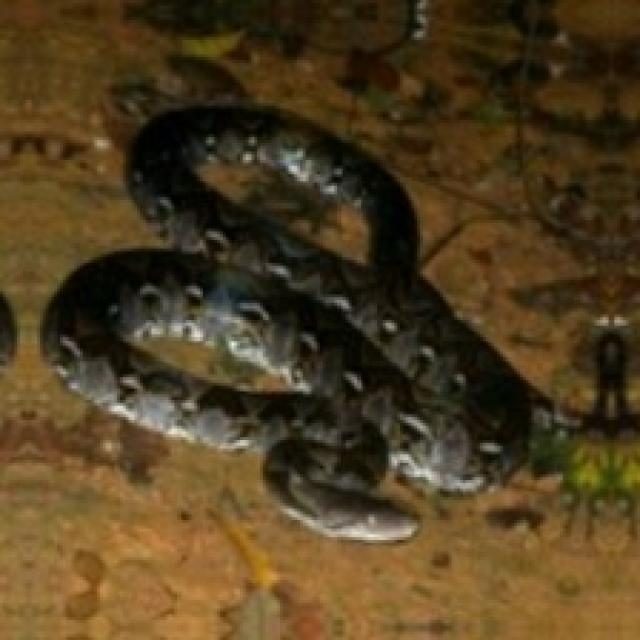reticulated python: (43, 106, 549, 540)
